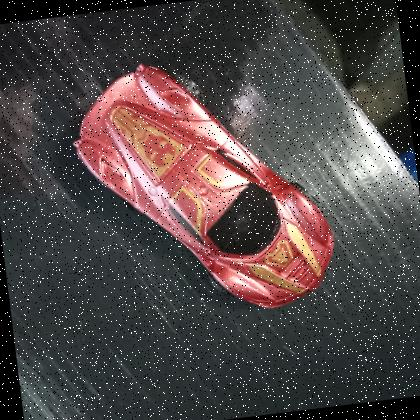Car: (58, 37, 351, 336)
